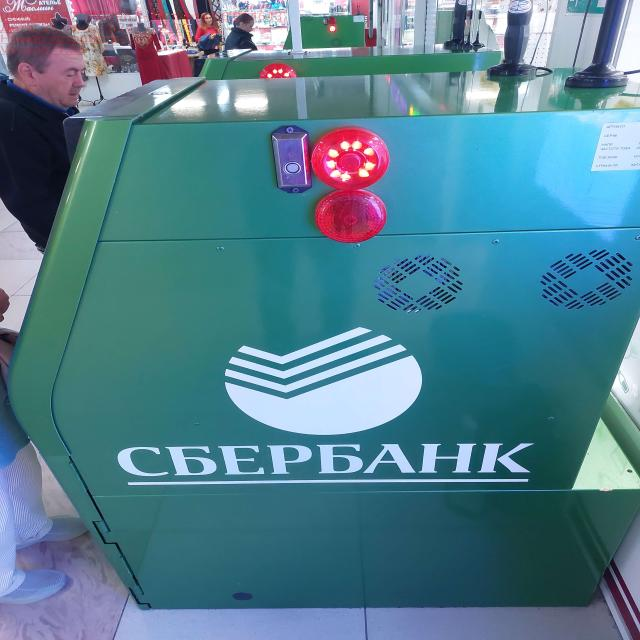bank: (5, 70, 640, 607)
